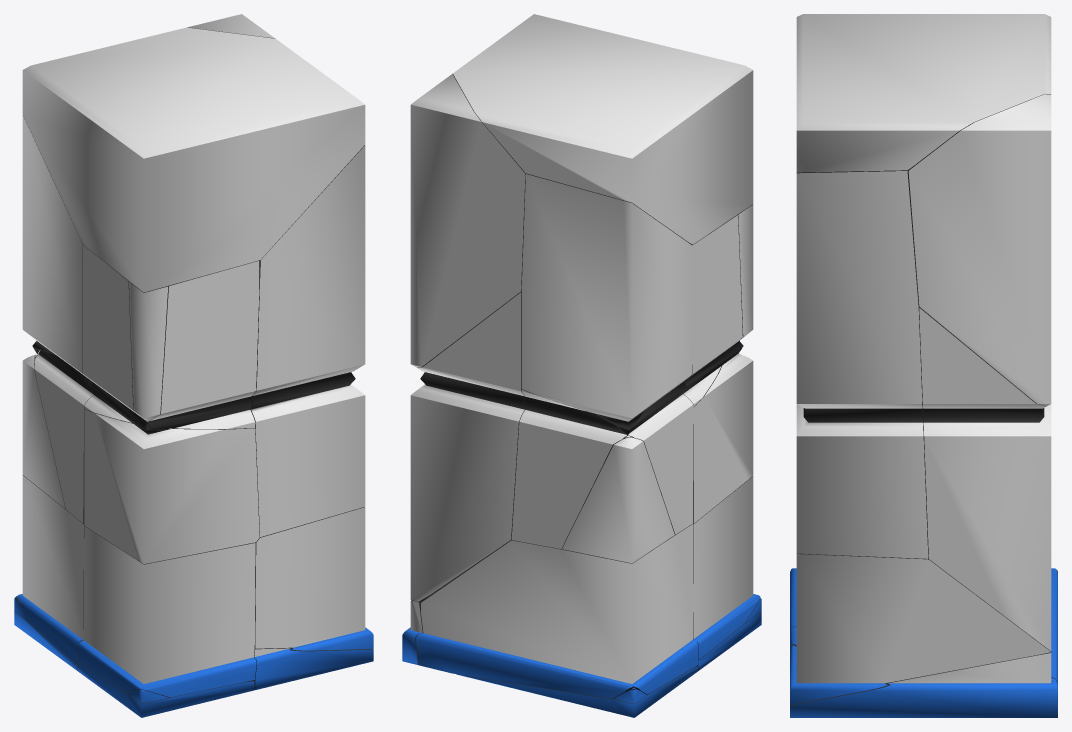
The model's file is Pillar_Fractured.fbx.
The picture shows the model from 3 angles, left to right: view 1: azimuth 30°, elevation 25°; view 2: azimuth 150°, elevation 25°; view 3: azimuth 270°, elevation 25°; orthographic projection. The views are drawn at different scales.
Parts seen in each view (by area): view 1: Pillar_cell.002, Pillar_cell.010, Pillar_cell.008, Pillar_cell.018, Pillar_cell, Pillar_cell.019, Pillar_cell.013, Pillar_cell.006, Pillar_cell.012, Pillar_cell.003, Pillar_cell.017, Pillar_cell.004 (+3 smaller); view 2: Pillar_cell.002, Pillar_cell.006, Pillar_cell.013, Pillar_cell.016, Pillar_cell.009, Pillar_cell.012, Pillar_cell.008, Pillar_cell.017, Pillar_cell, Pillar_cell.018, Pillar_cell.011, Pillar_cell.003 (+2 smaller); view 3: Pillar_cell.010, Pillar_cell.002, Pillar_cell.009, Pillar_cell.016, Pillar_cell.019, Pillar_cell.004, Pillar_cell.006.
Boxes of the visible parts, bbox=[...] form: Pillar_cell.002: bbox=[22, 27, 365, 292]; Pillar_cell.010: bbox=[250, 145, 365, 537]; Pillar_cell.008: bbox=[78, 525, 256, 697]; Pillar_cell.018: bbox=[83, 245, 259, 429]; Pillar_cell: bbox=[84, 409, 259, 563]; Pillar_cell.019: bbox=[254, 507, 373, 650]; Pillar_cell.013: bbox=[22, 115, 83, 372]; Pillar_cell.006: bbox=[17, 475, 84, 664]; Pillar_cell.012: bbox=[34, 350, 93, 523]; Pillar_cell.003: bbox=[129, 281, 168, 421]; Pillar_cell.017: bbox=[22, 355, 65, 508]; Pillar_cell.004: bbox=[253, 647, 373, 689]; Pillar_cell.002: bbox=[453, 14, 753, 244]; Pillar_cell.006: bbox=[416, 524, 698, 698]; Pillar_cell.013: bbox=[521, 174, 692, 429]; Pillar_cell.016: bbox=[410, 290, 525, 601]; Pillar_cell.009: bbox=[410, 73, 525, 367]; Pillar_cell.012: bbox=[511, 374, 693, 548]; Pillar_cell.008: bbox=[693, 476, 760, 659]; Pillar_cell.017: bbox=[562, 437, 674, 563]; Pillar_cell: bbox=[693, 347, 753, 523]; Pillar_cell.018: bbox=[683, 214, 742, 406]; Pillar_cell.011: bbox=[456, 666, 697, 717]; Pillar_cell.003: bbox=[738, 204, 753, 339]; Pillar_cell.010: bbox=[796, 171, 928, 558]; Pillar_cell.002: bbox=[796, 14, 1051, 174]; Pillar_cell.009: bbox=[908, 94, 1051, 405]; Pillar_cell.016: bbox=[919, 304, 1051, 650]; Pillar_cell.019: bbox=[790, 539, 1050, 704]; Pillar_cell.004: bbox=[790, 626, 1057, 717]; Pillar_cell.006: bbox=[1051, 568, 1057, 683].
Bounding box in the file's own units: 99.61 × 230 × 94.57.
